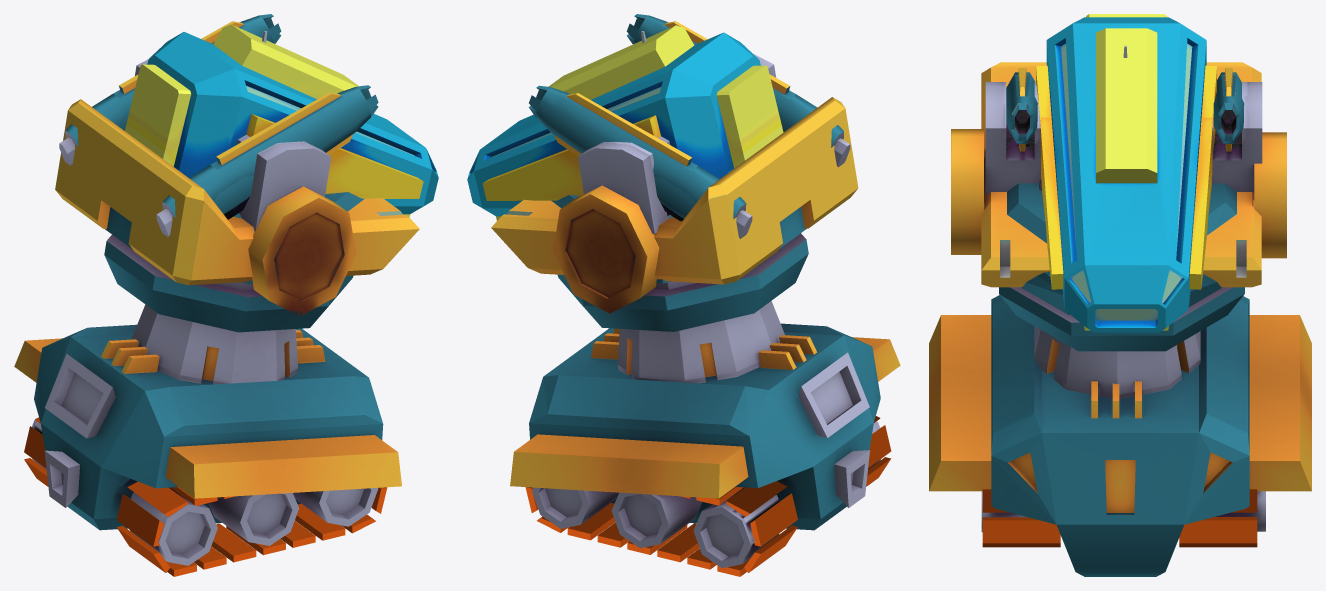
The model's file is Player_moving_upgrade13.obj.
The picture shows the model from 3 angles, left to right: view 1: azimuth 30°, elevation 25°; view 2: azimuth 150°, elevation 25°; view 3: azimuth 270°, elevation 25°; orthographic projection. The views are drawn at different scales.
Parts seen in each view (by area): view 1: Object015, Object014, Box009, Box017, Box016; view 2: Object015, Object014, Box009, Box016, Box017; view 3: Object015, Object014, Box017, Box016, Box009.
Boxes of the visible parts, x1,y1,x2,y2 form: Object015: [14, 24, 438, 530]; Object014: [59, 14, 378, 237]; Box009: [32, 420, 378, 565]; Box017: [116, 481, 387, 576]; Box016: [24, 417, 48, 486]; Object015: [467, 25, 900, 530]; Object014: [529, 14, 850, 238]; Box009: [532, 421, 880, 568]; Box016: [525, 481, 797, 576]; Box017: [866, 416, 891, 486]; Object015: [929, 14, 1311, 576]; Object014: [1006, 68, 1244, 151]; Box017: [982, 489, 1060, 547]; Box016: [1179, 489, 1257, 547]; Box009: [981, 491, 1265, 532].
Bounding box in the file's own units: 70.38 × 88.9 × 59.78.
5 materials, 3 textured.
